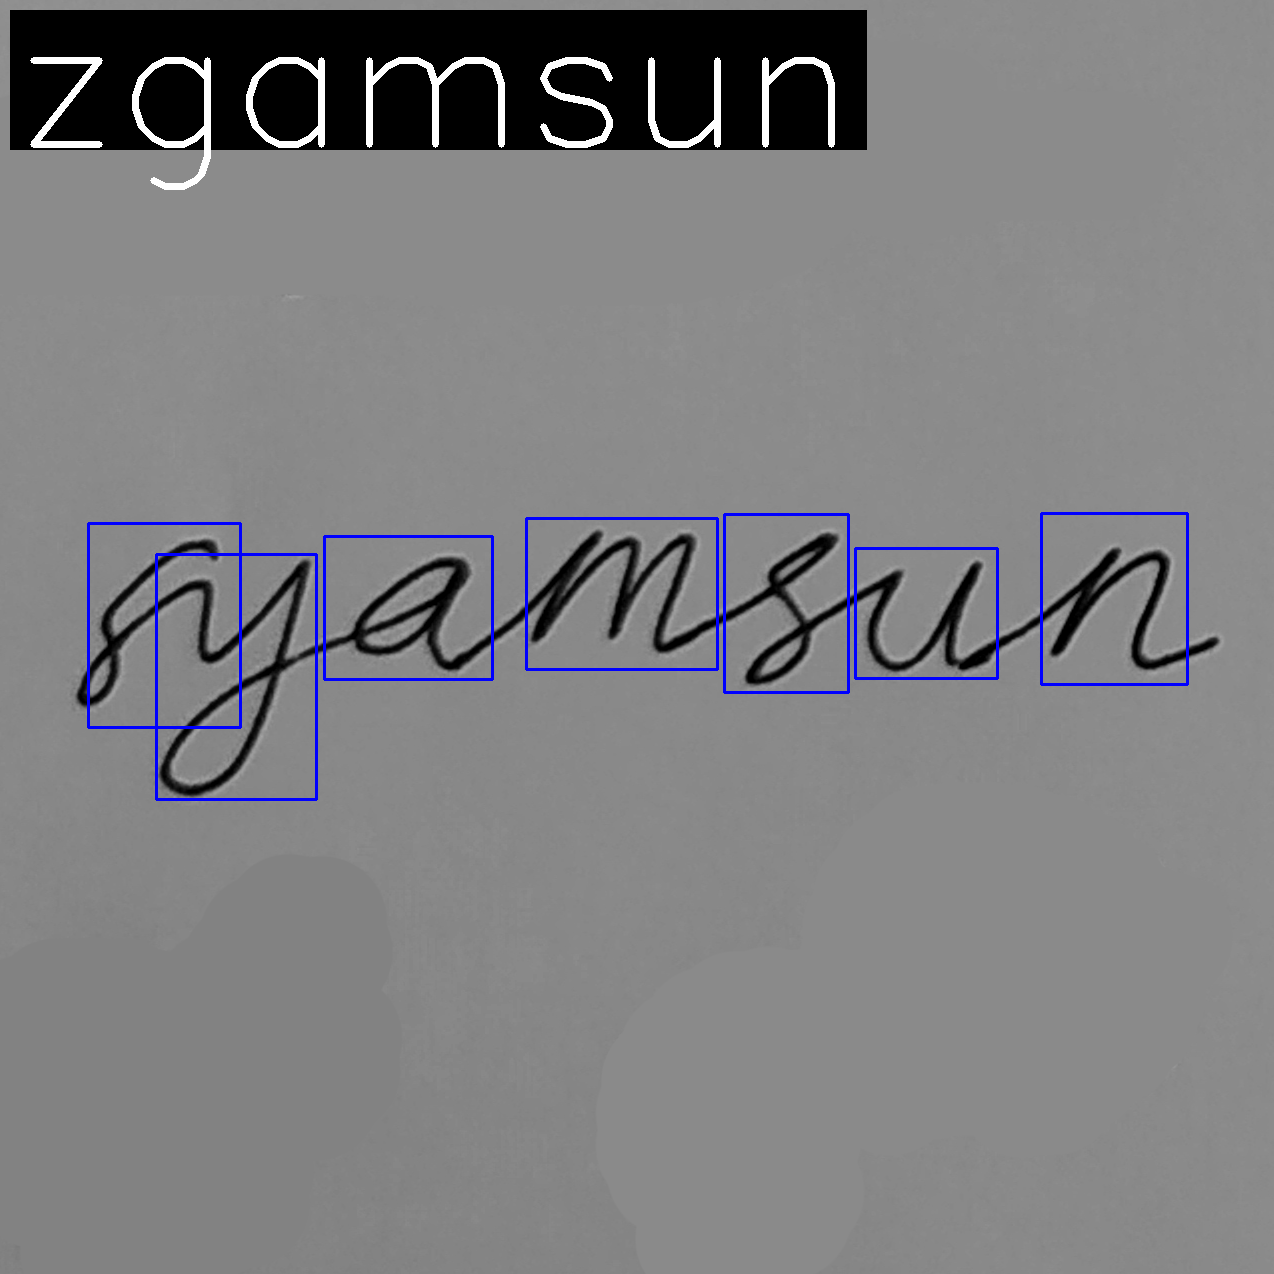a: (345, 554, 471, 675)
m: (525, 524, 698, 659)
n: (1048, 544, 1172, 675)
s: (71, 535, 220, 710), (740, 527, 840, 689)
u: (863, 556, 985, 678)
y: (156, 556, 313, 801)
